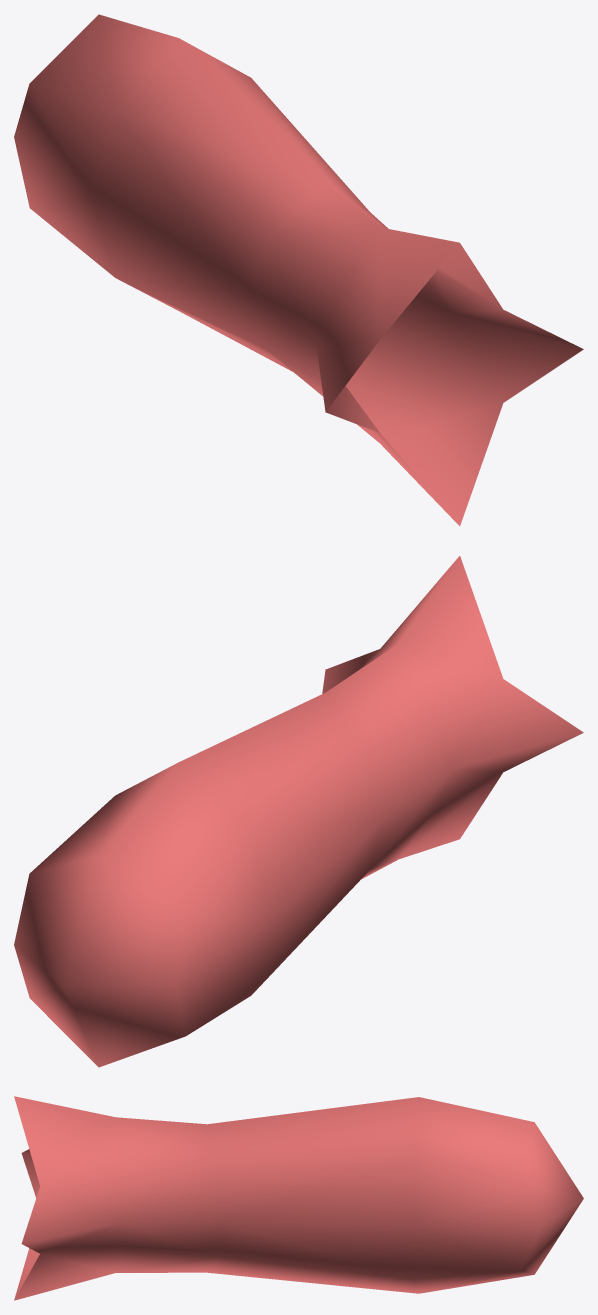
File: cre_fish02.fbx
3 views of the same model, one above another, from view 1: azimuth 30°, elevation 25°; view 2: azimuth 150°, elevation 25°; view 3: azimuth 270°, elevation 25° (orthographic). The views are drawn at different scales.
Visible parts, largest first — view 1: cre_fish02; view 2: cre_fish02; view 3: cre_fish02.
Part boxes in pixels (x1,y1,x2,y2): cre_fish02: [14, 14, 583, 525]; cre_fish02: [14, 556, 583, 1067]; cre_fish02: [14, 1096, 583, 1300].
Size of the model in its own units: 5.79 by 6.08 by 15.34.
